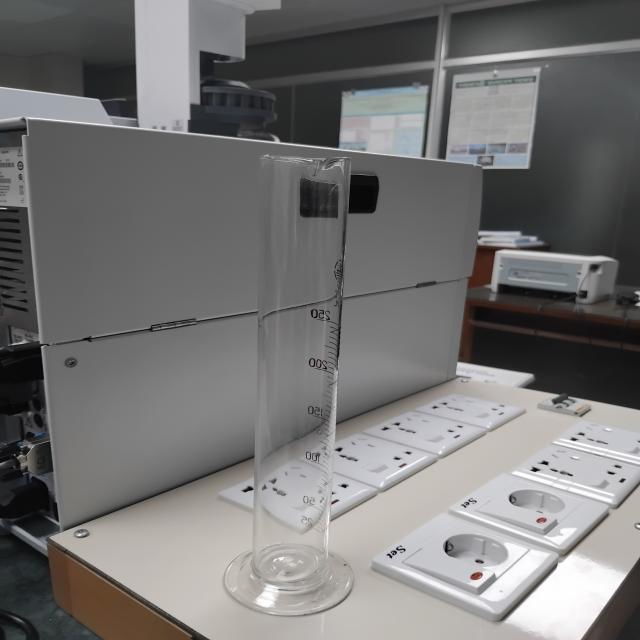Measuring_Cylinder: (198, 121, 387, 638)
